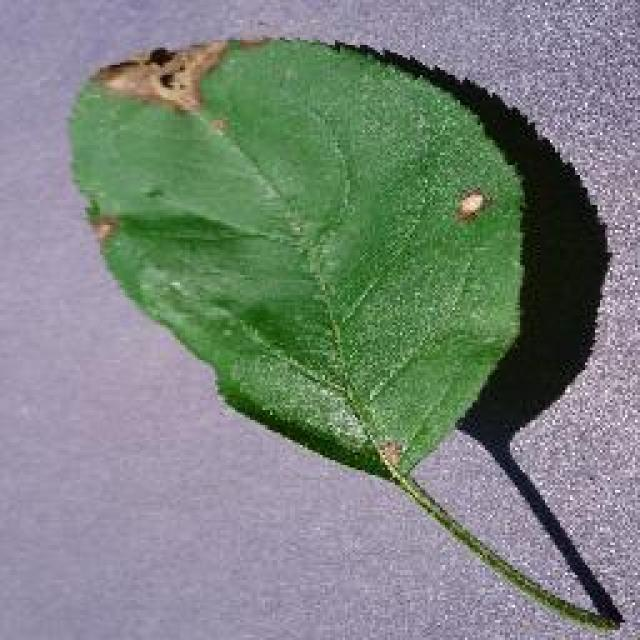apple black rot: (65, 30, 625, 632)
